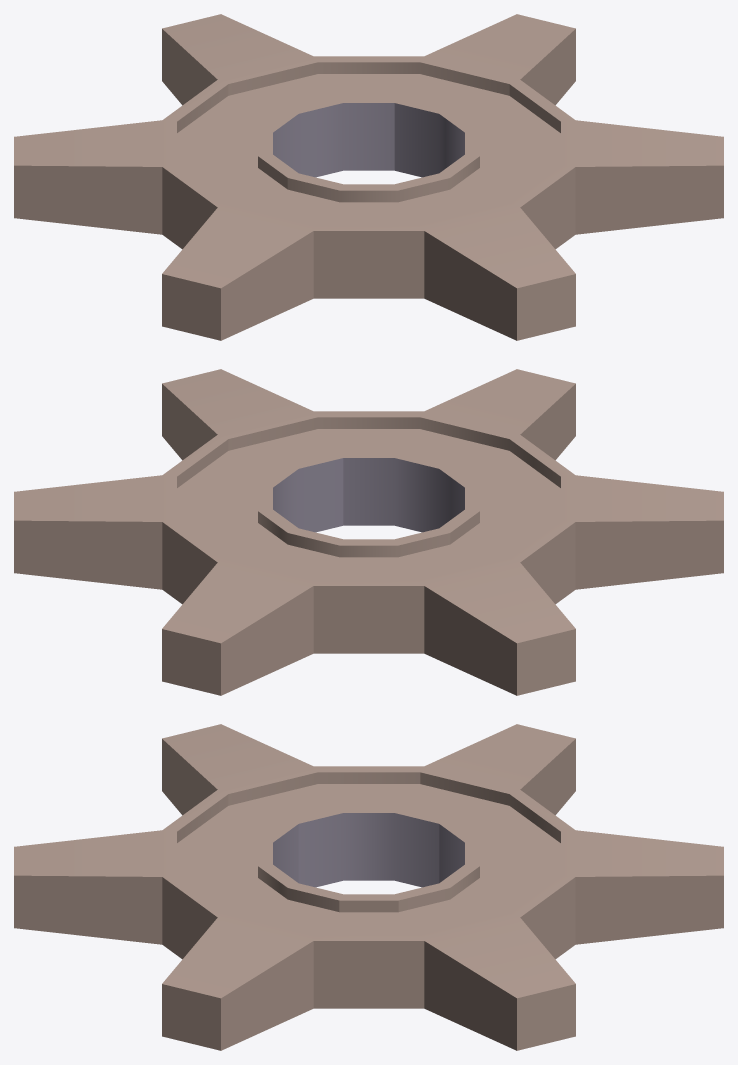
Rendered from SM_Gear_001.fbx.
The picture shows the model from 3 angles, top to bottom: view 1: azimuth 30°, elevation 25°; view 2: azimuth 150°, elevation 25°; view 3: azimuth 270°, elevation 25°; orthographic projection.
Visible parts, largest first — view 1: Gear.001; view 2: Gear.001; view 3: Gear.001.
Part boxes in pixels (x1,y1,x2,y2): Gear.001: [14, 14, 723, 340]; Gear.001: [14, 369, 723, 695]; Gear.001: [14, 724, 723, 1050].
Size of the model in its own units: 59.28 by 6.83 by 64.85.
